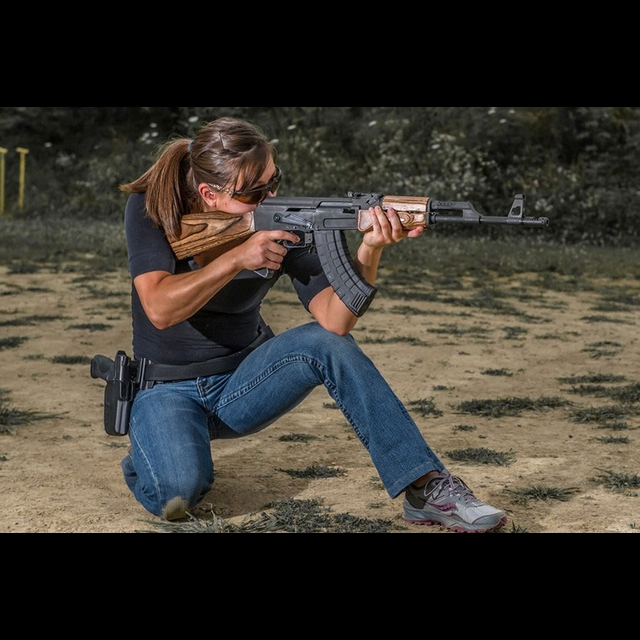AK47: (269, 179, 562, 319)
